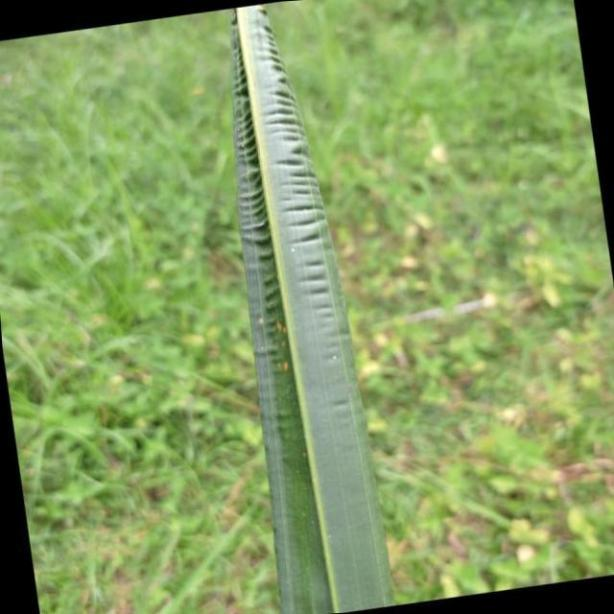Boron: (228, 0, 396, 614)
